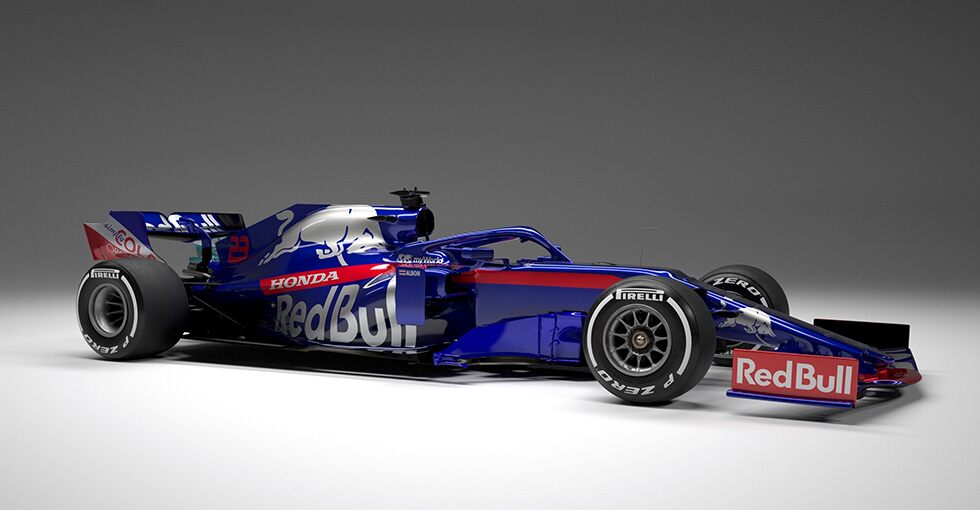f1_car: (65, 173, 937, 446)
